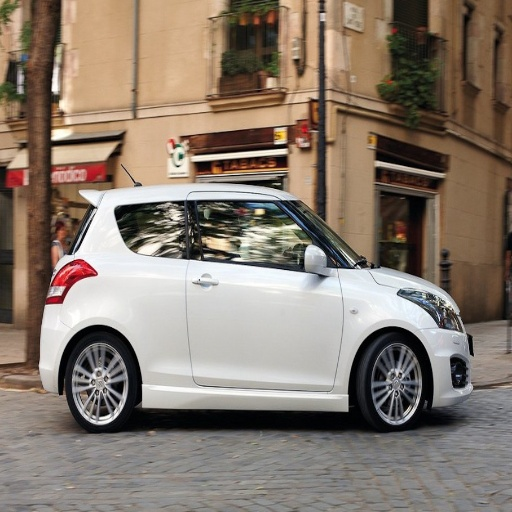back_right_door: (120, 193, 191, 385)
front_right_door: (187, 195, 344, 388)
